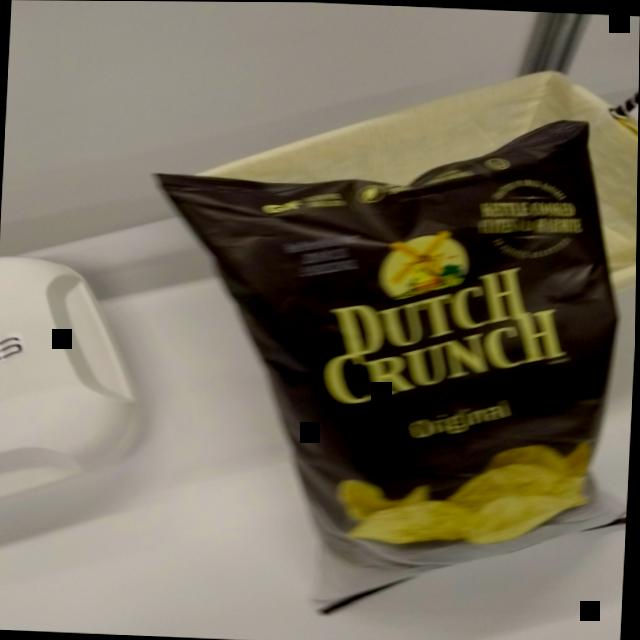potato_chips: (119, 94, 639, 634)
